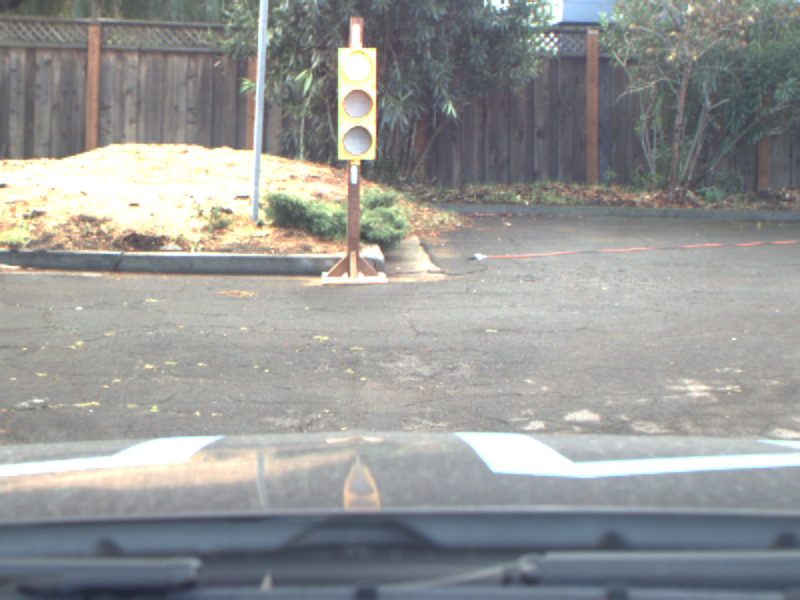Red: (337, 48, 376, 160)
